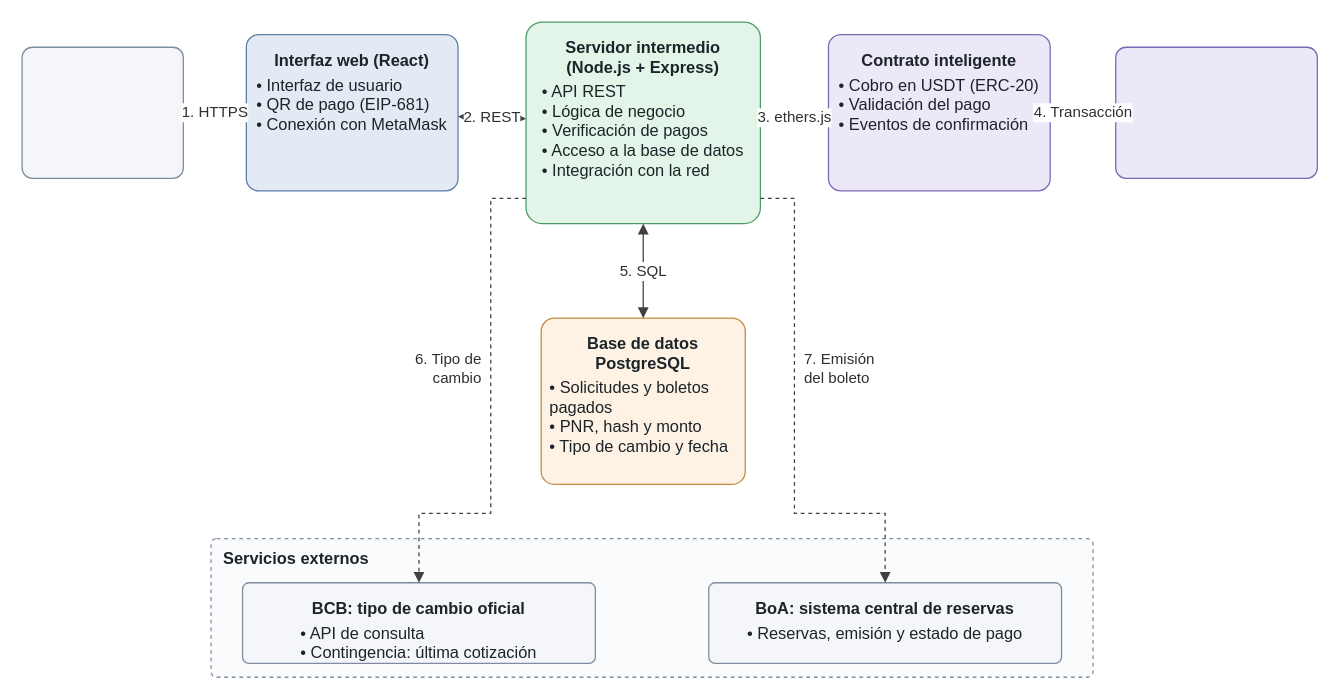
The diagram is 1339 pixels wide and 699 high, and some of its shapes have lost their labels. Each missing label, with the centre of its shape:
"Red de bloques • Polygon Amoy • Confirma bloques" goes at point 1215,112.
"Usuario (pasajero) • Navegador web • Móvil con billetera" goes at point 102,112.
